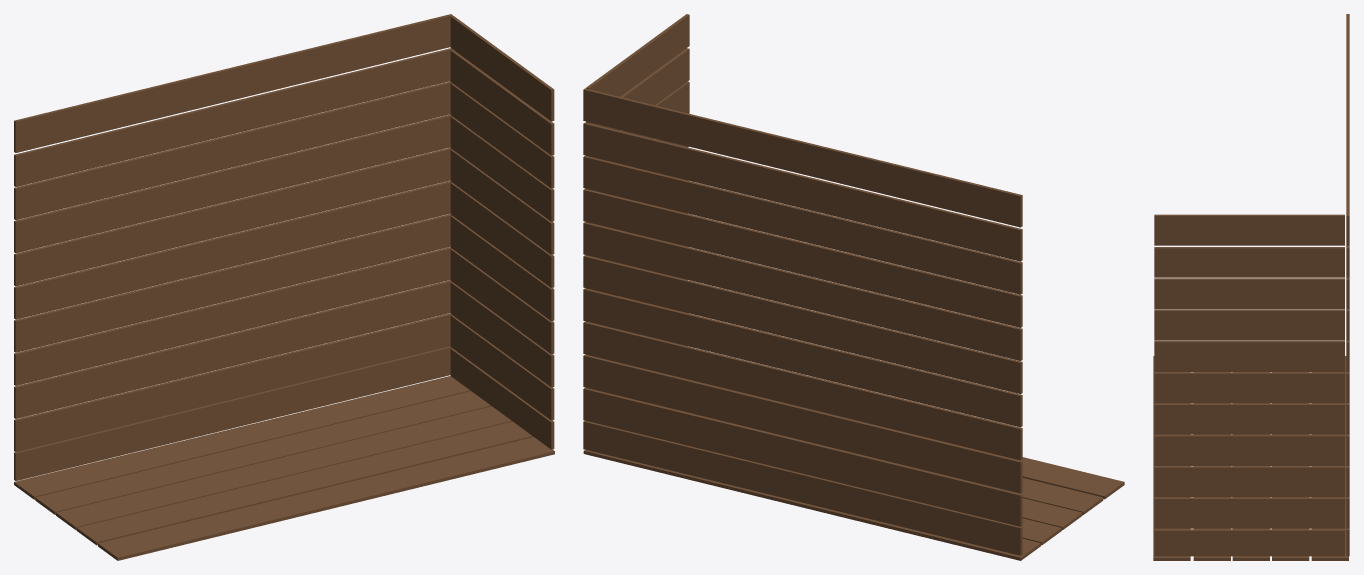
The model's file is Parquet_4.fbx.
3 renders of one model, left to right at view 1: azimuth 30°, elevation 25°; view 2: azimuth 150°, elevation 25°; view 3: azimuth 270°, elevation 25°, orthographic. The views are drawn at different scales.
Parts seen in each view (by area): view 1: Parquet_4; view 2: Parquet_4; view 3: Parquet_4.
Boxes of the visible parts, x1=… form: Parquet_4: x1=14, y1=14, x2=554, y2=560; Parquet_4: x1=583, y1=14, x2=1124, y2=560; Parquet_4: x1=1153, y1=14, x2=1349, y2=560.
Bounding box in the file's own units: 489 × 201 × 390.
